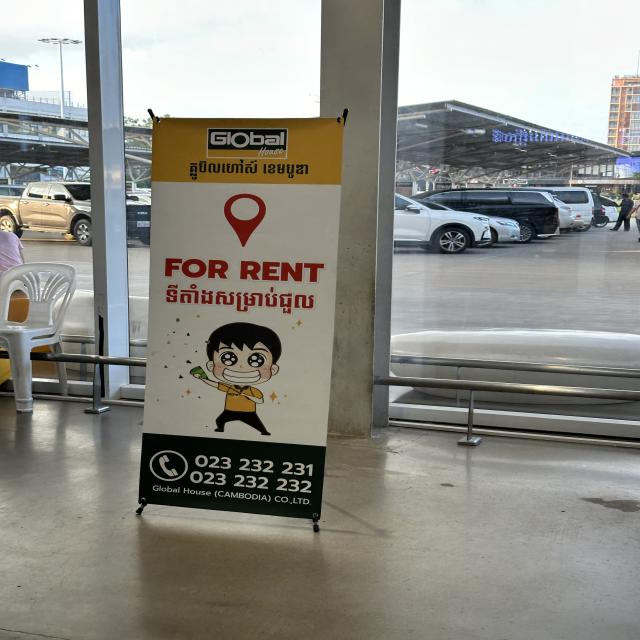1: (179, 157, 314, 182)
328: (184, 450, 321, 480)
329: (185, 471, 317, 497)
Yolov11_80vkh: (155, 280, 322, 319)
